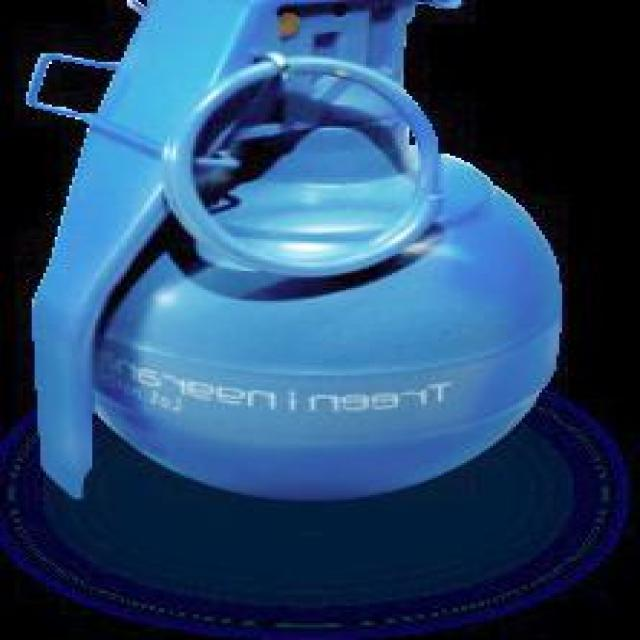grenade: (24, 1, 566, 502)
